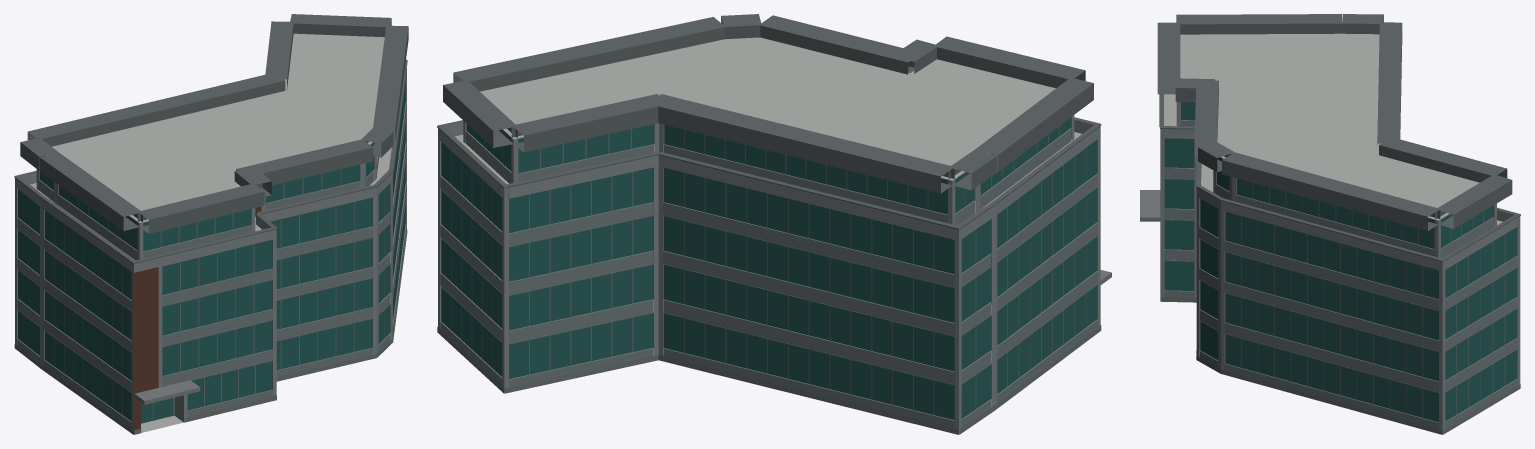
The picture shows the model from 3 angles, left to right: view 1: azimuth 30°, elevation 25°; view 2: azimuth 150°, elevation 25°; view 3: azimuth 270°, elevation 25°; orthographic projection. The views are drawn at different scales.
Parts seen in each view (by area): view 1: publicPolicy__glass, publicPolicy__roof, publicPolicy__trim, publicPolicy__spandrel, publicPolicy__wall, publicPolicy__frame, publicPolicy__parapet, publicPolicy__accent, publicPolicy__base, publicPolicy__canopy; view 2: publicPolicy__glass, publicPolicy__trim, publicPolicy__spandrel, publicPolicy__roof, publicPolicy__wall, publicPolicy__frame, publicPolicy__parapet, publicPolicy__base; view 3: publicPolicy__glass, publicPolicy__roof, publicPolicy__trim, publicPolicy__spandrel, publicPolicy__wall, publicPolicy__frame, publicPolicy__parapet, publicPolicy__base, publicPolicy__canopy.
Boxes of the visible parts, <box> form: publicPolicy__glass: <box>18,82,405,423</box>; publicPolicy__roof: <box>30,33,406,432</box>; publicPolicy__trim: <box>14,14,408,263</box>; publicPolicy__spandrel: <box>17,106,406,428</box>; publicPolicy__wall: <box>15,71,406,434</box>; publicPolicy__frame: <box>18,95,403,420</box>; publicPolicy__parapet: <box>15,68,406,272</box>; publicPolicy__accent: <box>134,206,261,434</box>; publicPolicy__base: <box>14,230,407,434</box>; publicPolicy__canopy: <box>134,380,200,404</box>; publicPolicy__glass: <box>441,117,1096,420</box>; publicPolicy__trim: <box>437,14,1101,229</box>; publicPolicy__spandrel: <box>440,129,1097,428</box>; publicPolicy__roof: <box>454,37,1081,406</box>; publicPolicy__wall: <box>438,115,1100,434</box>; publicPolicy__frame: <box>441,126,1096,415</box>; publicPolicy__parapet: <box>438,120,1100,240</box>; publicPolicy__base: <box>437,325,1101,434</box>; publicPolicy__glass: <box>1164,102,1516,422</box>; publicPolicy__roof: <box>1164,33,1502,356</box>; publicPolicy__trim: <box>1157,14,1520,261</box>; publicPolicy__spandrel: <box>1164,120,1517,429</box>; publicPolicy__wall: <box>1160,102,1520,434</box>; publicPolicy__frame: <box>1165,178,1516,417</box>; publicPolicy__parapet: <box>1160,129,1520,270</box>; publicPolicy__base: <box>1160,297,1520,434</box>; publicPolicy__canopy: <box>1140,190,1160,221</box>.
Size of the model in its own units: 38.82 by 18.9 by 30.33.
